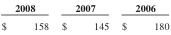table: (0, 0, 168, 32)
table column: (54, 0, 114, 32), (0, 0, 54, 32), (114, 0, 168, 32)
table column header: (0, 0, 168, 16)
table row: (0, 0, 168, 16), (0, 16, 168, 32)
